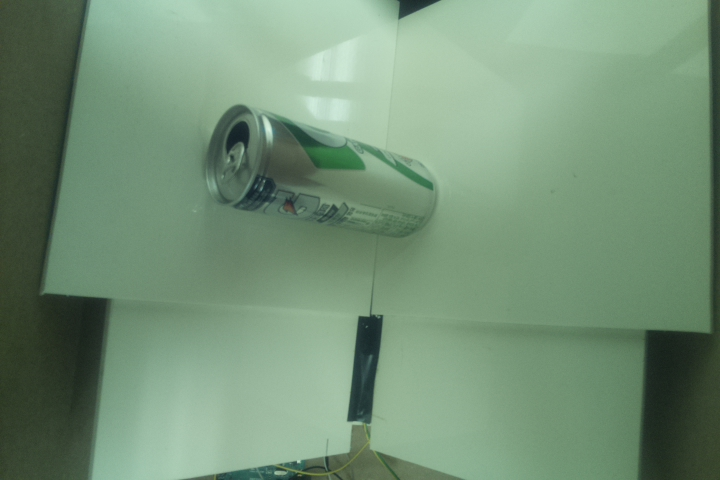can: (201, 102, 441, 241)
